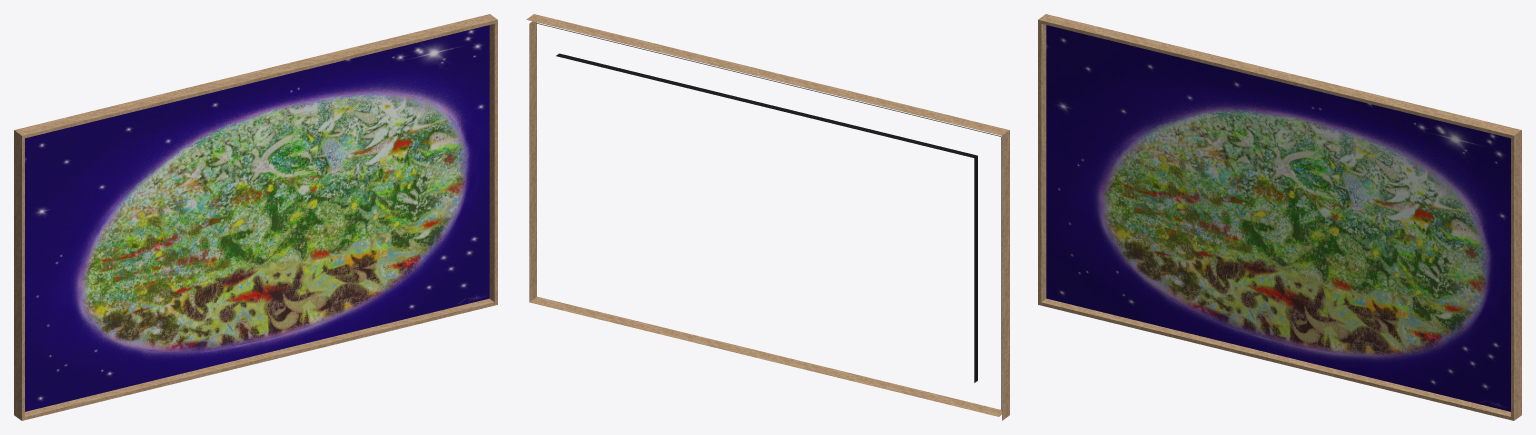
The model's file is hz007_grand_caisse-chene.glb.
The picture shows the model from 3 angles, left to right: view 1: azimuth 30°, elevation 25°; view 2: azimuth 150°, elevation 25°; view 3: azimuth 330°, elevation 25°; orthographic projection.
Visible parts, largest first — view 1: hz007_grand_caisse-chene; view 2: hz007_grand_caisse-chene; view 3: hz007_grand_caisse-chene.
Boxes of the visible parts, bbox=[...] form: hz007_grand_caisse-chene: bbox=[14, 14, 497, 420]; hz007_grand_caisse-chene: bbox=[526, 14, 1009, 420]; hz007_grand_caisse-chene: bbox=[1038, 14, 1521, 420].
Bounding box in the file's own units: 1.23 × 0.703 × 0.035.
Materials: 4 (2 with a texture image).
